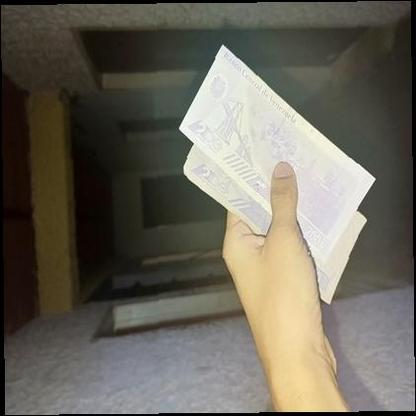two_hundred-back-vef: (176, 43, 376, 265)
